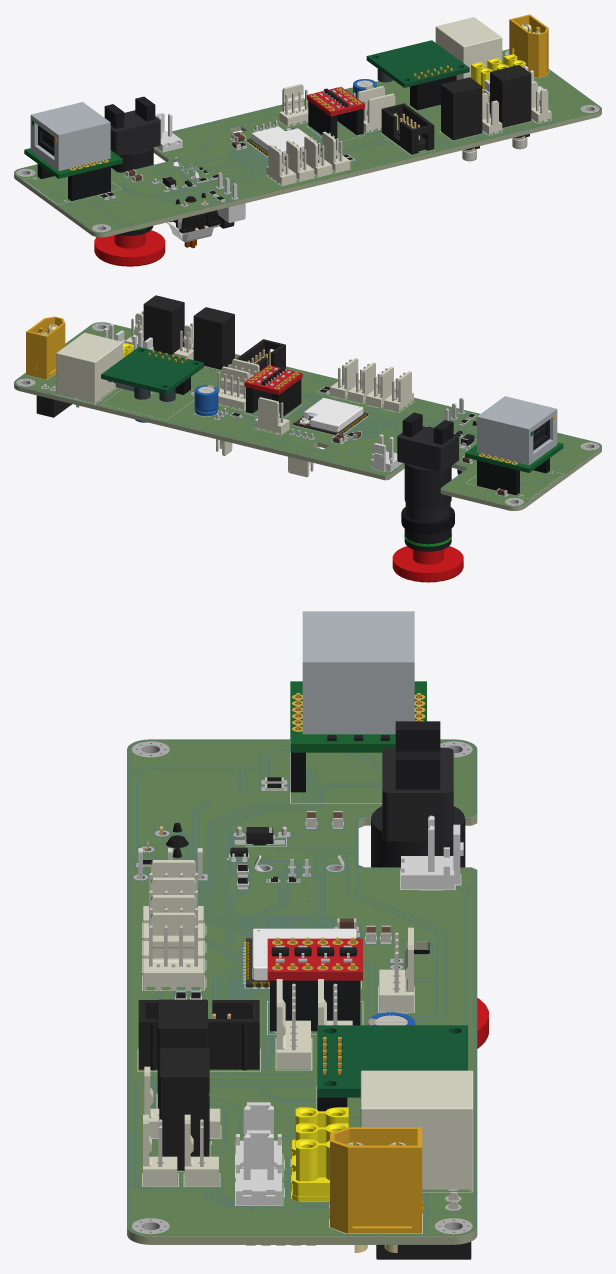
The model's file is main-board-2027-2026-11-09.glb.
3 views of the same model, one above another, from view 1: azimuth 30°, elevation 25°; view 2: azimuth 150°, elevation 25°; view 3: azimuth 270°, elevation 25° (orthographic). The views are drawn at different scales.
Visible parts, largest first — view 1: =>[0:1:1:36], =>[0:1:1:31], J31, C13, RJ45_metal_shield, =>[0:1:1:38], Pololu_D36V50F5_PCB_25p4x25p4, K2, female_housing_1, J100, J5, 01_Tete_rouge_D24 (+15 smaller); view 2: =>[0:1:1:36], =>[0:1:1:31], J31, C13, RJ45_metal_shield, K2, =>[0:1:1:38], Pololu_D36V50F5_PCB_25p4x25p4, J5, 08_Bloc_contacts_2NF_approximatif, 06_Corps_filete_simplifie, 01_Tete_rouge_D24 (+15 smaller); view 3: =>[0:1:1:36], =>[0:1:1:31], J31, =>[0:1:1:38], RJ45_metal_shield, C13, J5, K2, Pololu_D36V50F5_PCB_25p4x25p4, 1, J100, 08_Bloc_contacts_2NF_approximatif (+11 smaller).
Boxes of the visible parts, left/top/right/bottom form: =>[0:1:1:36]: left=14, top=49, right=601, bottom=237; =>[0:1:1:31]: left=16, top=51, right=596, bottom=230; J31: left=255, top=81, right=551, bottom=185; C13: left=162, top=65, right=531, bottom=187; RJ45_metal_shield: left=30, top=102, right=110, bottom=170; =>[0:1:1:38]: left=14, top=70, right=601, bottom=237; Pololu_D36V50F5_PCB_25p4x25p4: left=366, top=40, right=469, bottom=87; K2: left=435, top=17, right=502, bottom=80; female_housing_1: left=37, top=75, right=456, bottom=201; J100: left=381, top=103, right=434, bottom=154; J5: left=509, top=14, right=548, bottom=77; 01_Tete_rouge_D24: left=94, top=230, right=165, bottom=266; =>[0:1:1:36]: left=14, top=322, right=601, bottom=510; =>[0:1:1:31]: left=20, top=323, right=597, bottom=504; J31: left=125, top=311, right=413, bottom=477; C13: left=36, top=295, right=474, bottom=474; RJ45_metal_shield: left=477, top=396, right=557, bottom=465; K2: left=56, top=332, right=122, bottom=403; =>[0:1:1:38]: left=14, top=324, right=601, bottom=510; Pololu_D36V50F5_PCB_25p4x25p4: left=101, top=347, right=203, bottom=394; J5: left=26, top=316, right=65, bottom=379; 08_Bloc_contacts_2NF_approximatif: left=397, top=426, right=458, bottom=471; 06_Corps_filete_simplifie: left=404, top=463, right=451, bottom=509; 01_Tete_rouge_D24: left=392, top=546, right=463, bottom=582; =>[0:1:1:36]: left=127, top=739, right=477, bottom=1244; =>[0:1:1:31]: left=130, top=741, right=473, bottom=1234; J31: left=143, top=860, right=413, bottom=1186; =>[0:1:1:38]: left=127, top=740, right=477, bottom=1244; RJ45_metal_shield: left=302, top=611, right=414, bottom=734; C13: left=157, top=827, right=471, bottom=1259; J5: left=329, top=1127, right=423, bottom=1252; K2: left=360, top=1070, right=473, bottom=1191; Pololu_D36V50F5_PCB_25p4x25p4: left=317, top=1025, right=467, bottom=1097; 1: left=235, top=815, right=463, bottom=1205; J100: left=138, top=1000, right=259, bottom=1070; 08_Bloc_contacts_2NF_approximatif: left=382, top=747, right=453, bottom=841.
Size of the model in its own units: 0.198 by 0.0605 by 0.0609.
